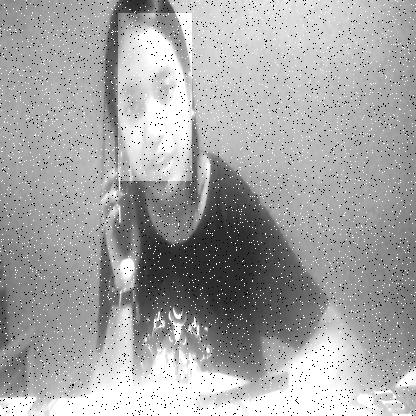Normal: (118, 13, 192, 181)
